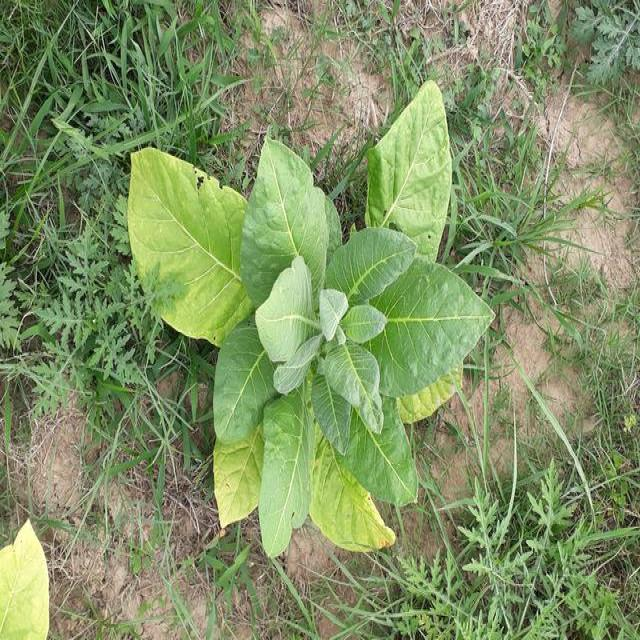crop: (130, 96, 496, 550), (0, 516, 50, 640)
